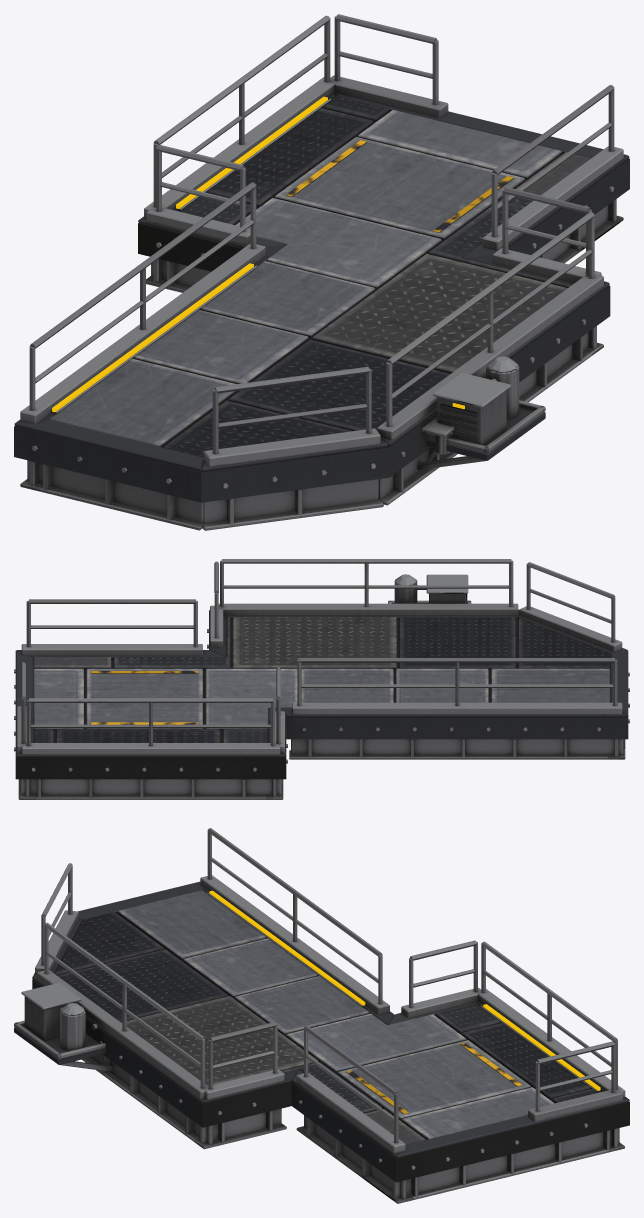
Rendered from nodexeus-set-deck-s4.glb.
3 views of the same model, one above another, from view 1: azimuth 30°, elevation 25°; view 2: azimuth 150°, elevation 25°; view 3: azimuth 270°, elevation 25° (orthographic). The views are drawn at different scales.
Parts seen in each view (by area): view 1: set-deck-s4; view 2: set-deck-s4; view 3: set-deck-s4.
Boxes of the visible parts, left/top/right/bottom form: set-deck-s4: left=14, top=14, right=629, bottom=530; set-deck-s4: left=14, top=559, right=629, bottom=799; set-deck-s4: left=14, top=828, right=629, bottom=1203.
Size of the model in its own units: 10.21 by 1.86 by 9.58.
1 material, 1 textured.
